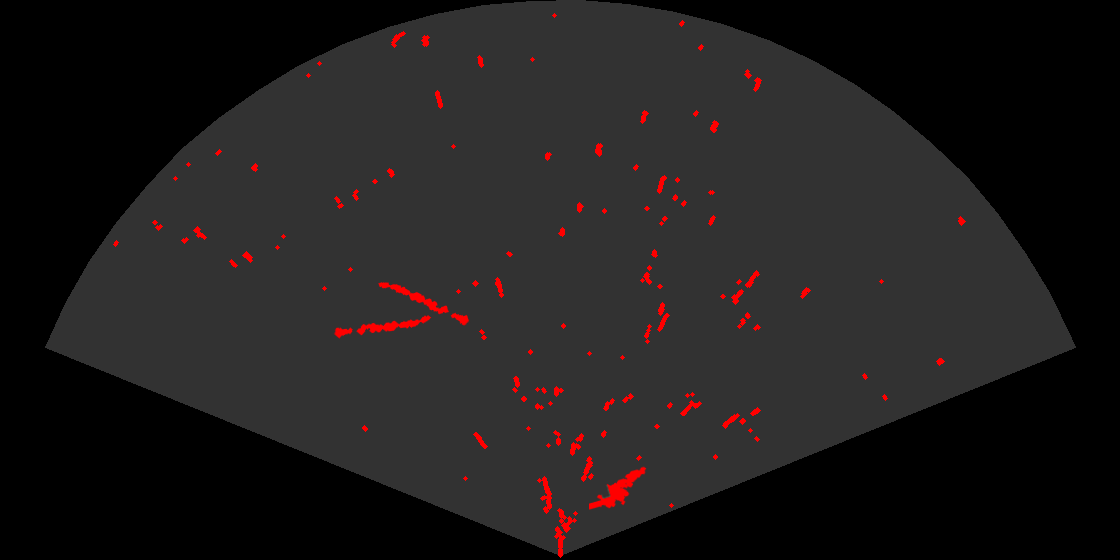chain: (377, 281, 471, 327), (332, 314, 433, 340)
frogman: (589, 465, 648, 511)
